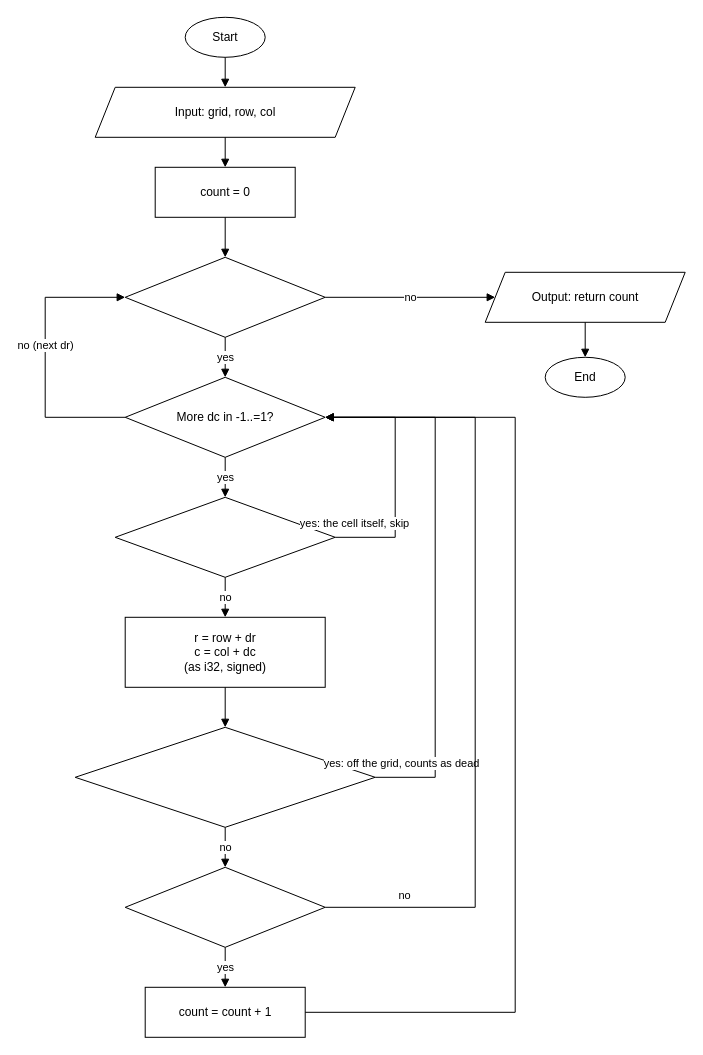
The diagram is 703 pixels wide and 1055 high, and some of its shapes have lost their labels. Each missing label, with the centre of its shape:
"dr == 0 and dc == 0?" belongs at point 224,536.
"grid[r][c] is alive?" belongs at point 224,906.
"More dr in -1..=1?" belongs at point 224,296.
"r or c outside the grid? (off the edge)" belongs at point 224,776.
